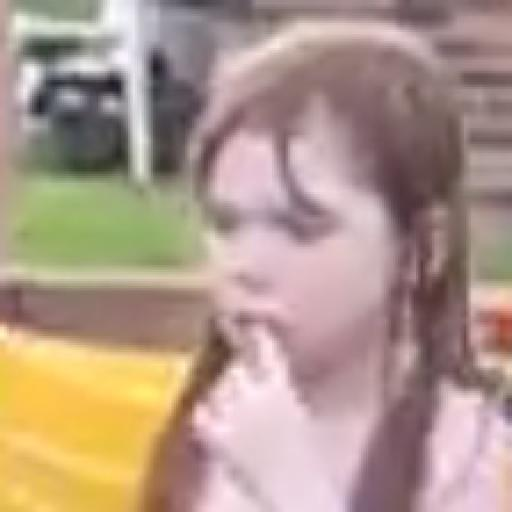Autism: (160, 64, 489, 444)
